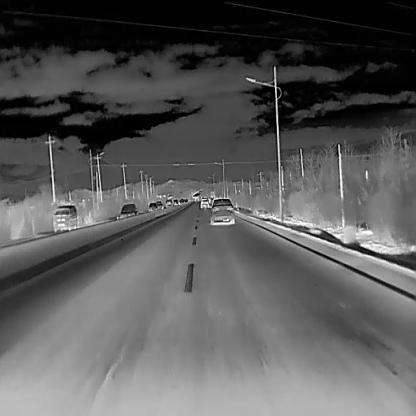car: (52, 204, 78, 232), (209, 197, 235, 225), (116, 203, 139, 220), (200, 197, 210, 208), (148, 202, 158, 212), (155, 200, 163, 209), (165, 198, 172, 207), (178, 197, 184, 205), (173, 198, 178, 206), (183, 198, 188, 203)
